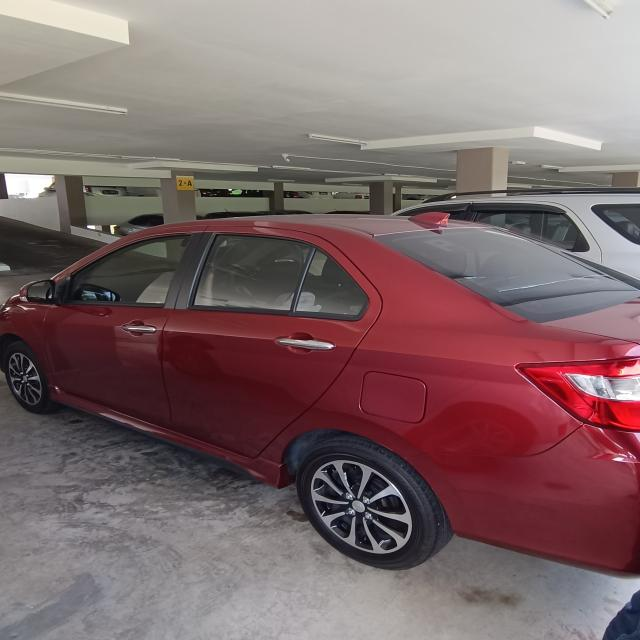PeroduaBezza: (1, 210, 639, 576)
